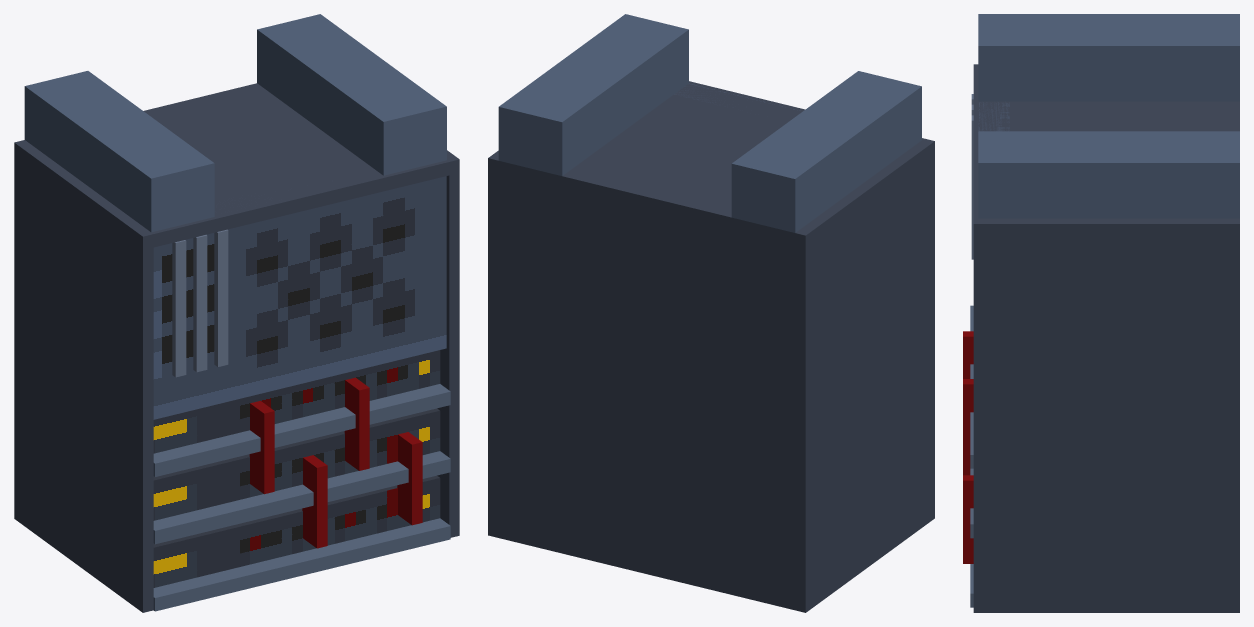
The model's file is CMU3DTelecomBusCloud.glb.
The picture shows the model from 3 angles, left to right: view 1: azimuth 30°, elevation 25°; view 2: azimuth 150°, elevation 25°; view 3: azimuth 270°, elevation 25°; orthographic projection. The views are drawn at different scales.
Parts seen in each view (by area): view 1: full depth left chassis, upper vent and eight port face original face, cabinet roof, left top shoulder, right top shoulder, rack bay control face 3 original face, rack bay control face 2 original face, rack bay control face 1 original face, bay lower rail 3, bay lower rail 1, bay lower rail 2, full depth right chassis (+10 smaller); view 2: rear cabinet wall, full depth left chassis, left top shoulder, right top shoulder, cabinet roof, full depth right chassis; view 3: full depth right chassis, left top shoulder, right top shoulder, cabinet roof, raised red patch jumper 26, raised red patch jumper 21, upper vent and eight port face, raised red patch jumper 12, rear cabinet wall, upper vent raised rib 8, bay lower rail 1.
Part boxes in pixels (x1,y1,x2,y2): full depth left chassis: (14,140,153,612); upper vent and eight port face original face: (153,176,446,419); cabinet roof: (150,88,449,247); left top shoulder: (24,71,214,232); right top shoulder: (257,14,446,175); rack bay control face 3 original face: (153,477,440,587); rack bay control face 2 original face: (153,410,440,520); rack bay control face 1 original face: (153,350,440,453); bay lower rail 3: (153,518,450,611); bay lower rail 1: (153,384,450,476); bay lower rail 2: (153,451,450,544); full depth right chassis: (437,150,459,537); rear cabinet wall: (498,161,795,610); full depth left chassis: (795,138,934,612); left top shoulder: (731,71,921,232); right top shoulder: (498,14,688,175); cabinet roof: (569,81,923,210); full depth right chassis: (488,150,498,537); full depth right chassis: (973,218,1239,612); left top shoulder: (978,14,1239,101); right top shoulder: (978,131,1239,218); cabinet roof: (973,69,1225,218); raised red patch jumper 26: (963,475,973,563); raised red patch jumper 21: (963,379,973,467); upper vent and eight port face: (979,101,1009,131); raised red patch jumper 12: (963,331,973,378); rear cabinet wall: (1225,101,1239,131); upper vent raised rib 8: (971,115,973,259); bay lower rail 1: (970,305,973,468).
Size of the model in its own units: 0.9375 by 1.22 by 0.686.
Materials: 12 (4 with a texture image).
